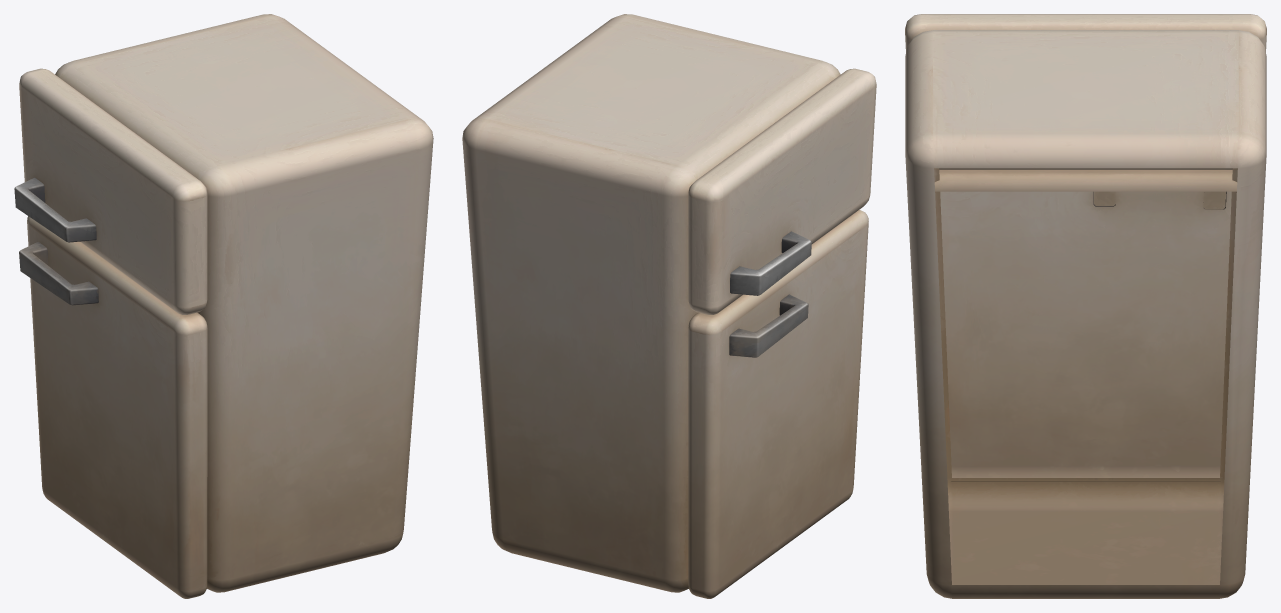
File: SM_Fridge.fbx
3 renders of one model, left to right at view 1: azimuth 30°, elevation 25°; view 2: azimuth 150°, elevation 25°; view 3: azimuth 270°, elevation 25°, orthographic. The views are drawn at different scales.
Parts seen in each view (by area): view 1: SM_Fridge_LOD0; view 2: SM_Fridge_LOD0; view 3: SM_Fridge_LOD0.
Part boxes in pixels (left/top/right/bottom): SM_Fridge_LOD0: left=14, top=14, right=433, bottom=598; SM_Fridge_LOD0: left=462, top=14, right=876, bottom=598; SM_Fridge_LOD0: left=905, top=14, right=1266, bottom=598.
Bounding box in the file's own units: 136 × 136 × 197.
Materials: 1 (1 with a texture image).
